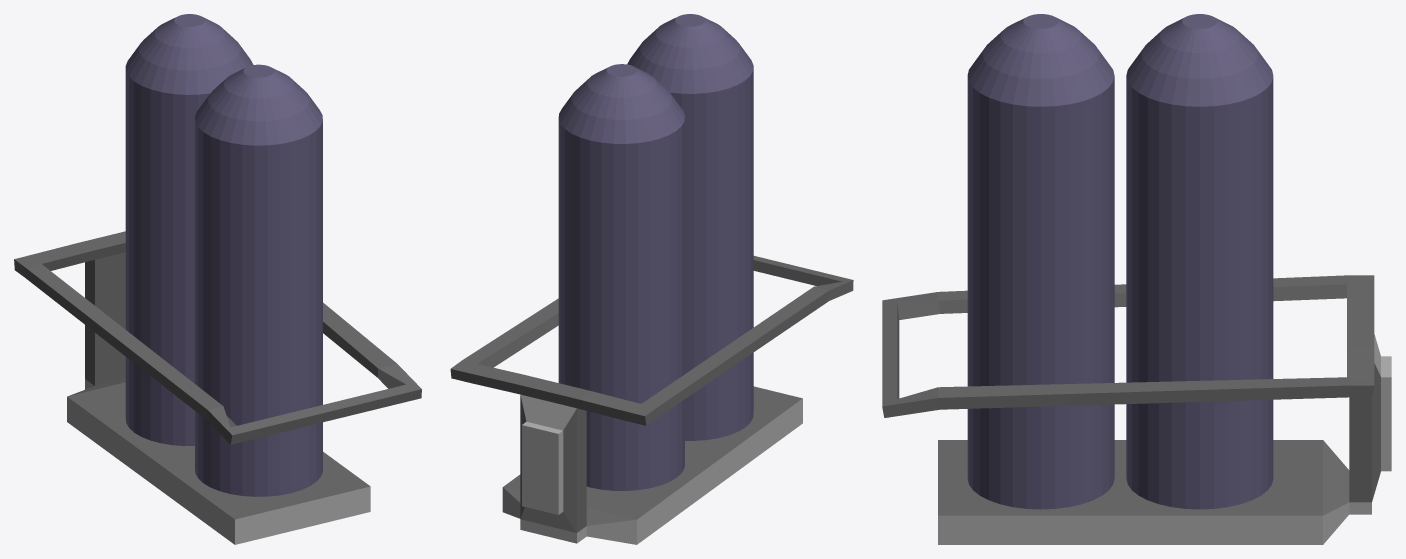
Rendered from Gascanister_01.fbx.
The picture shows the model from 3 angles, left to right: view 1: azimuth 30°, elevation 25°; view 2: azimuth 150°, elevation 25°; view 3: azimuth 270°, elevation 25°; orthographic projection. The views are drawn at different scales.
Parts seen in each view (by area): view 1: GasCanister_01; view 2: GasCanister_01; view 3: GasCanister_01.
Part boxes in pixels (x1,y1,x2,y2): GasCanister_01: (14, 14, 421, 544); GasCanister_01: (450, 14, 853, 544); GasCanister_01: (882, 14, 1391, 544).
Bounding box in the file's own units: 228 × 468 × 445.
